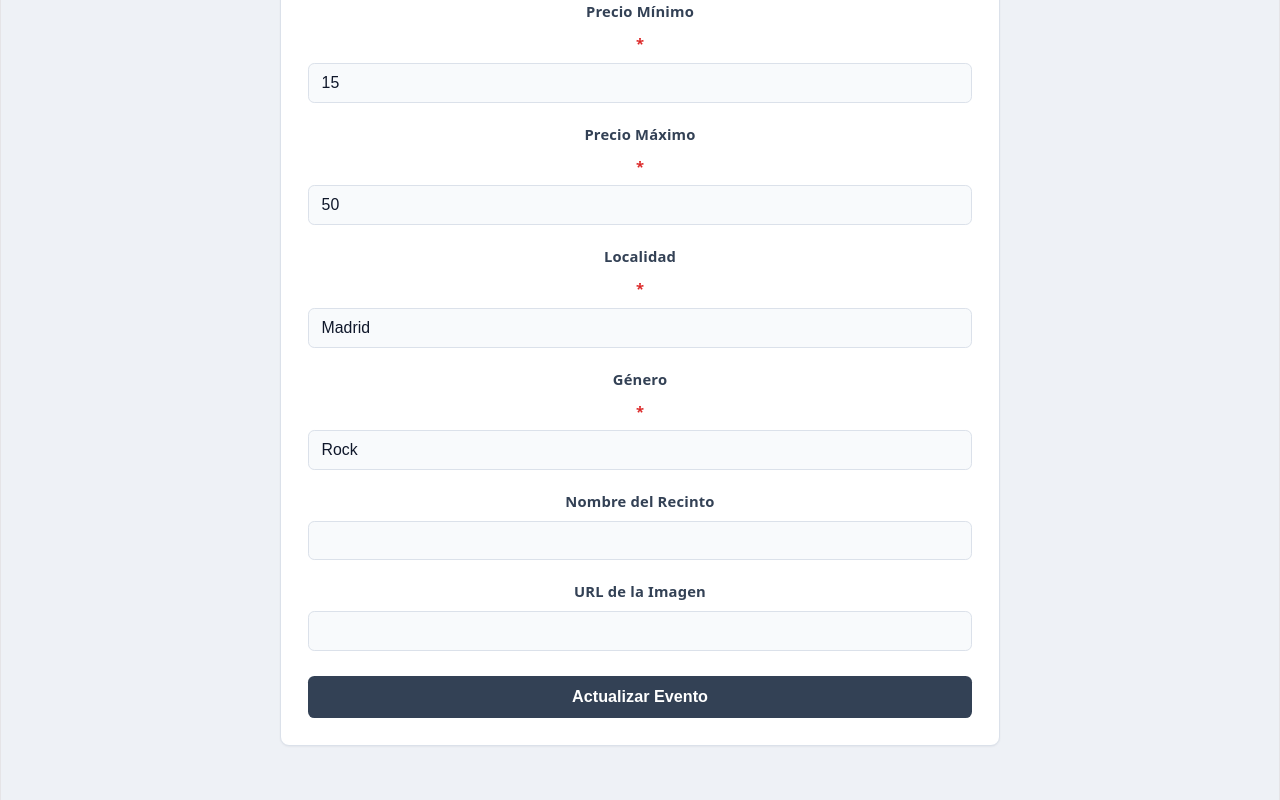
Test: EventFormComponent - Edición de evento existente › 16. Mientras se procesa la actualización, el botón permanece deshabilitado y muestra 'Actualizando...'
The width and height of the screenshot is (1280, 800).
(page scrolled)
Click the button "Actualizar Evento" at (640, 697), box [308,676,972,718]
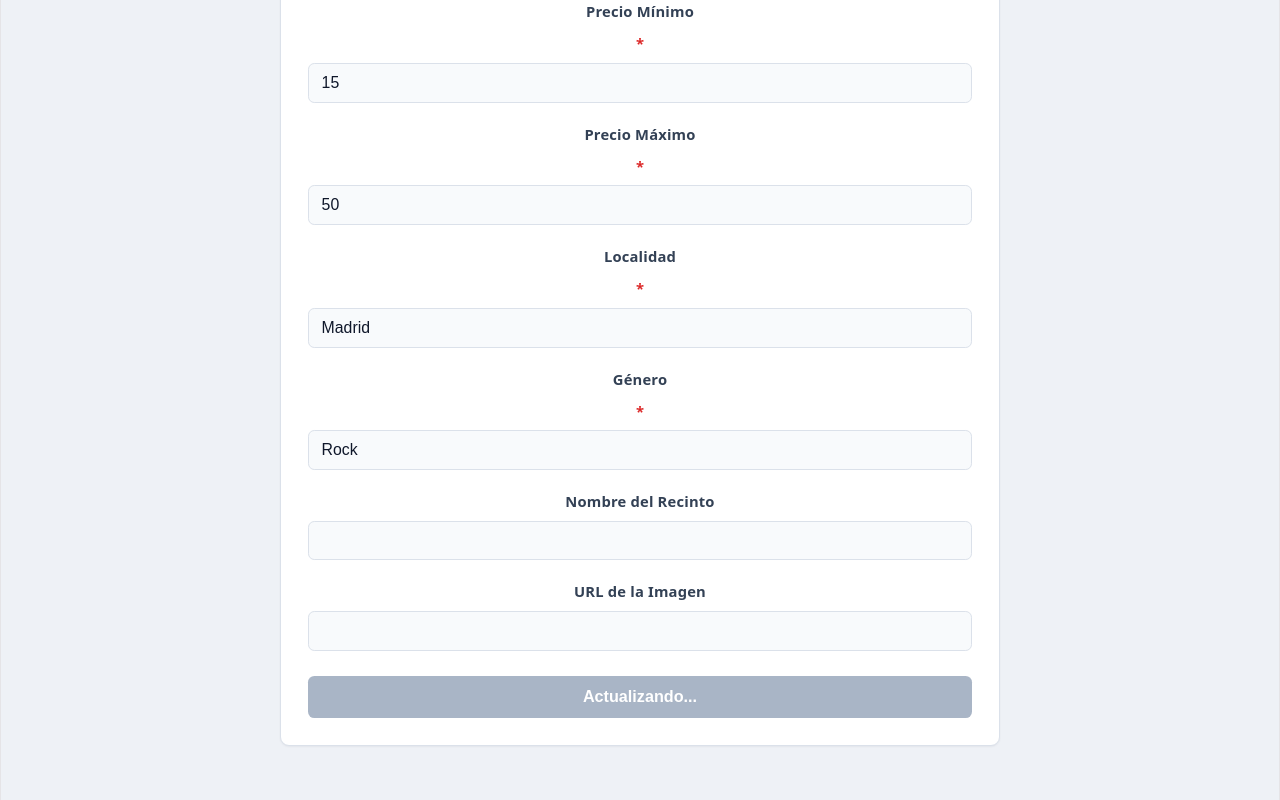
Check: the button "Actualizando..." is disabled, box [308,676,972,718]
